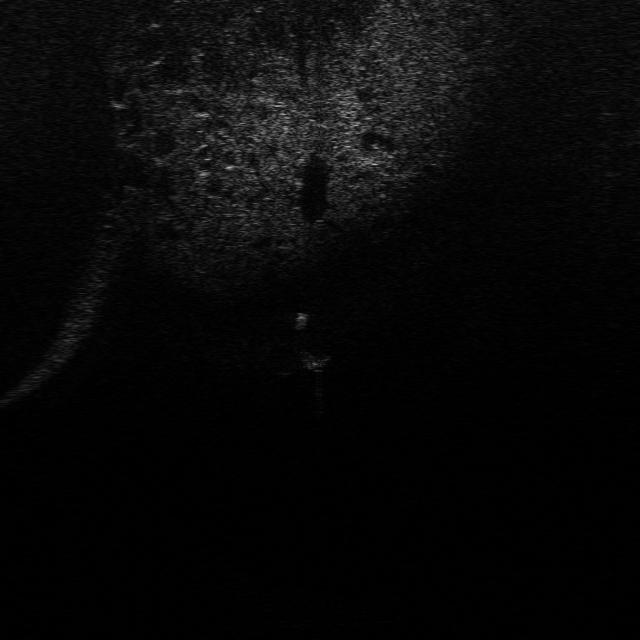cube: (299, 348, 332, 372)
cylinder: (292, 308, 310, 332)
